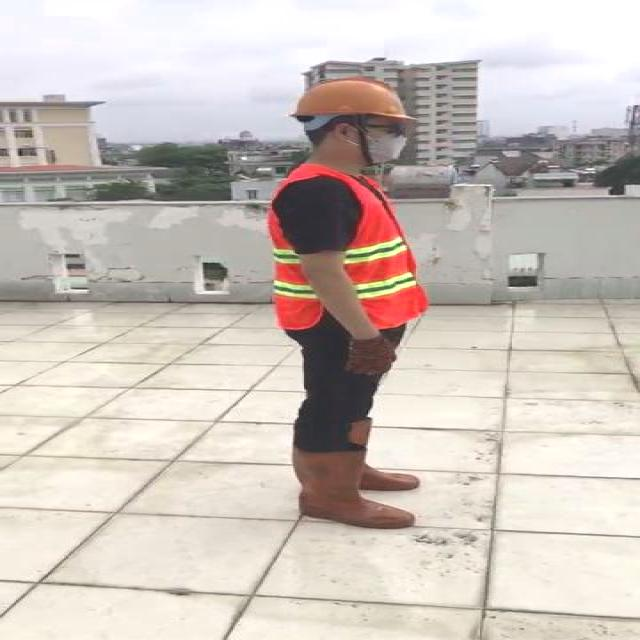boots: (290, 449, 418, 528), (305, 412, 422, 492)
face_mask: (356, 119, 412, 164)
hand_glove: (347, 336, 398, 375)
head_helmet: (285, 75, 415, 124)
person: (248, 74, 442, 532)
vest: (269, 166, 423, 331)
